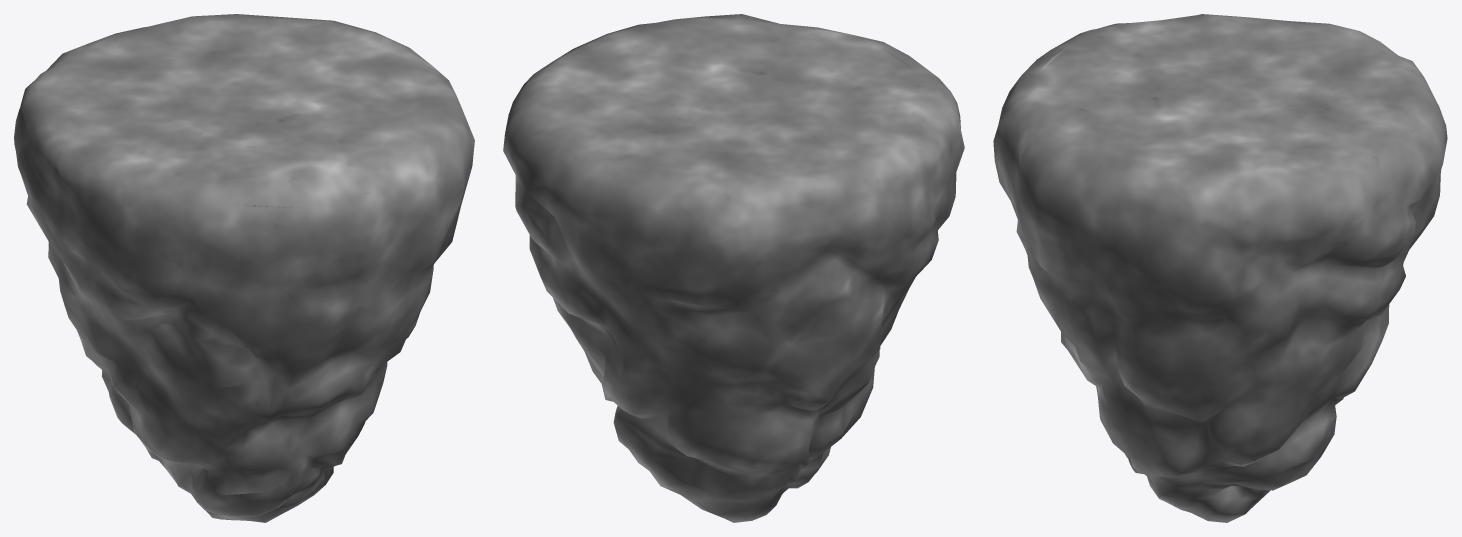
Rendered from Main Rock 1.fbx.
3 renders of one model, left to right at view 1: azimuth 30°, elevation 25°; view 2: azimuth 150°, elevation 25°; view 3: azimuth 270°, elevation 25°, orthographic.
Visible parts, largest first — view 1: Main cube 1; view 2: Main cube 1; view 3: Main cube 1.
Part boxes in pixels (x1,y1,x2,y2): Main cube 1: (14,14,474,522); Main cube 1: (503,14,964,522); Main cube 1: (993,14,1447,522).
Bounding box in the file's own units: 163 × 171 × 166.
